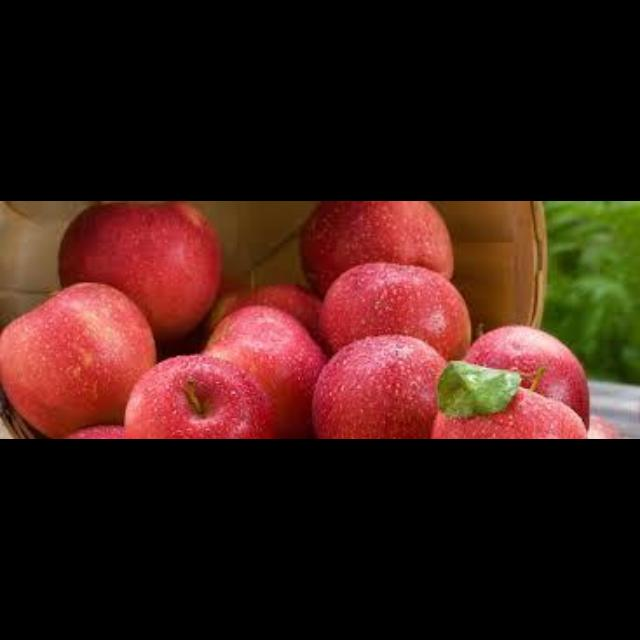apple: (0, 283, 155, 438), (59, 201, 220, 341), (204, 306, 326, 438), (319, 262, 469, 360), (302, 201, 452, 295), (312, 337, 445, 438), (464, 327, 588, 428), (126, 354, 274, 438), (208, 283, 326, 351), (431, 389, 586, 438), (66, 426, 124, 438)
